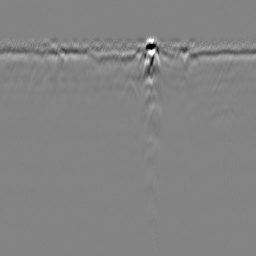cavity: (119, 76, 138, 106)
